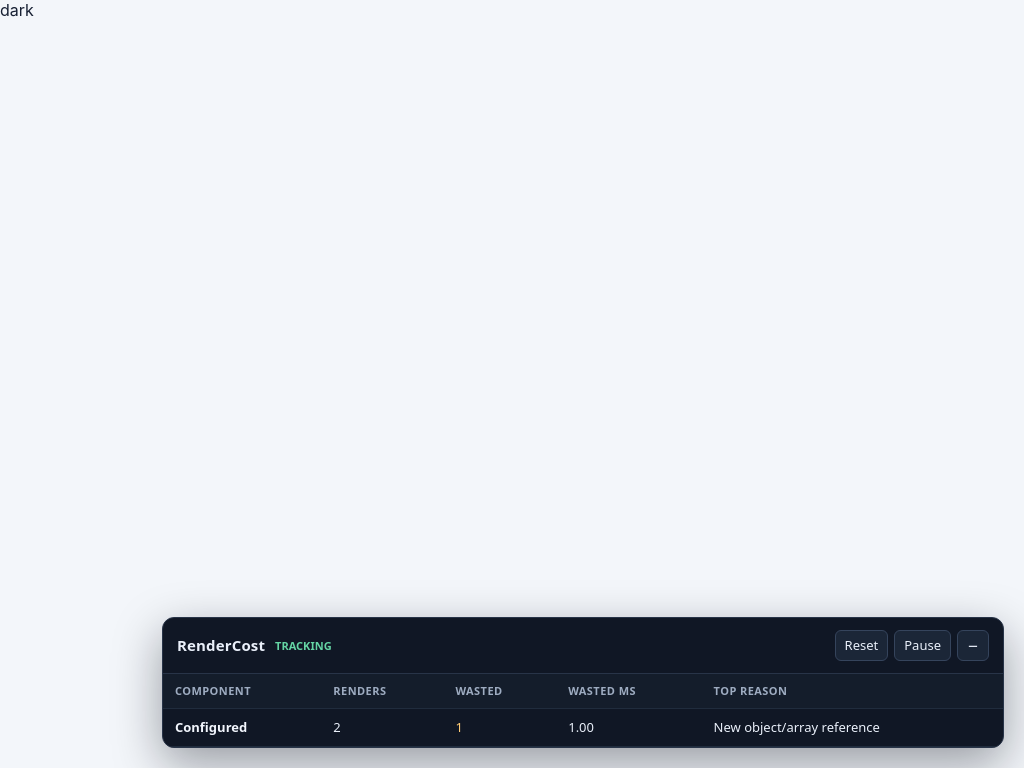
Scenario: RenderCostPanel › suggests useMemo for a new object reference
The image size is (1024, 768).
What coordinates should you click on to do the following:
click the row "Configured 2 1 1.00 New object/array reference"
I would click on:
 (583, 728)
Its box is [163,709,1003,746].
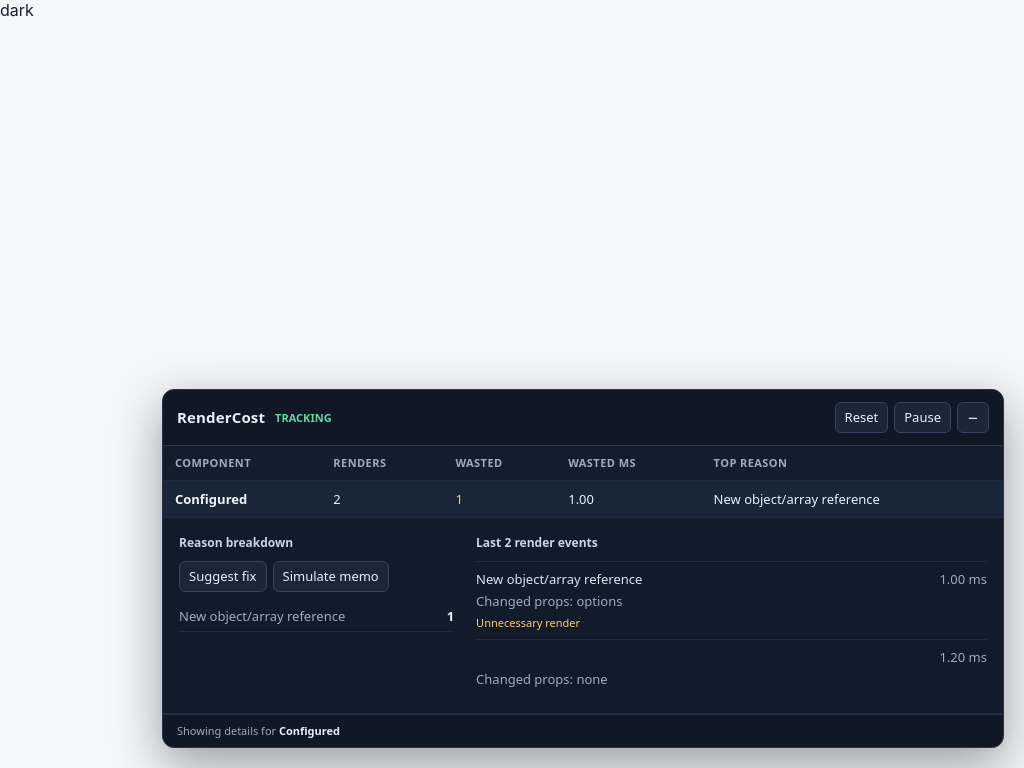
What coordinates should you click on to do the following:
click the button "Suggest fix"
I would click on:
 (223, 576)
Its box is [179,561,266,592].
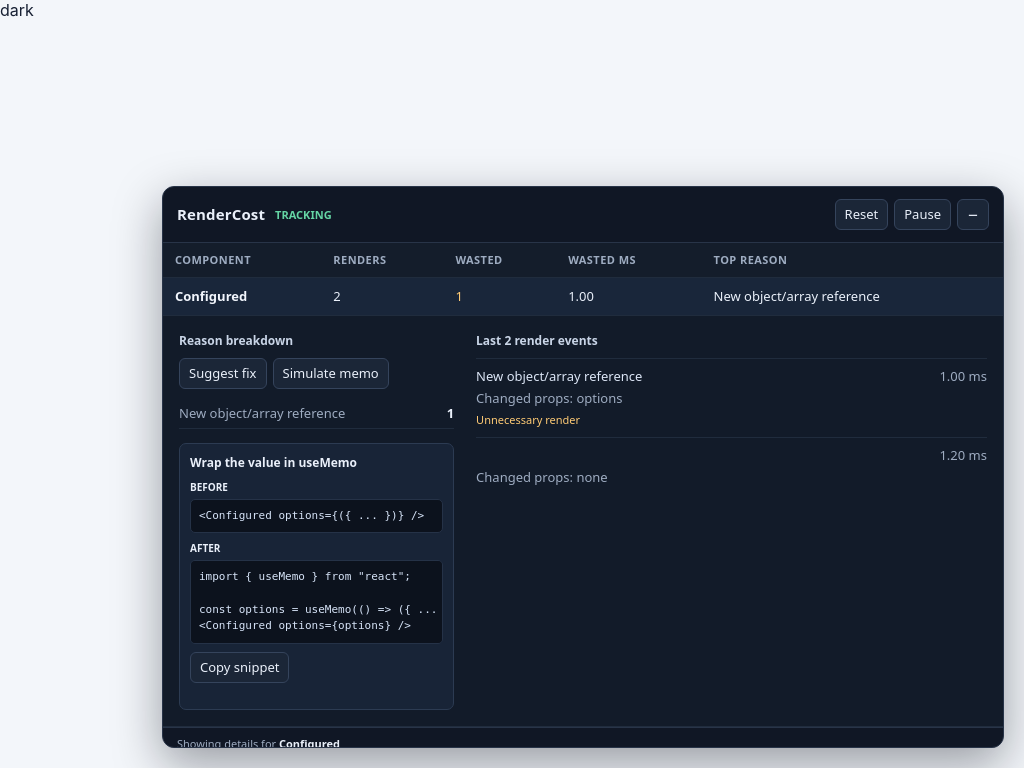
Expected: the element named "Suggested fix" shows "useMemo", [190,454,357,471]
